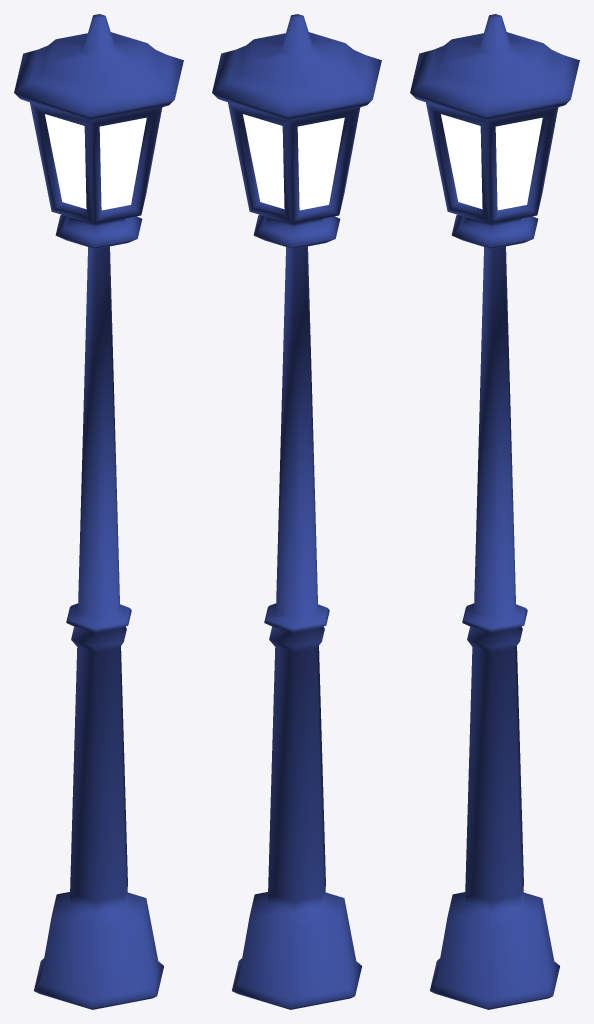
Rendered from lamp.glb.
3 renders of one model, left to right at view 1: azimuth 30°, elevation 25°; view 2: azimuth 150°, elevation 25°; view 3: azimuth 270°, elevation 25°, orthographic.
Parts seen in each view (by area): view 1: Circle.002; view 2: Circle.002; view 3: Circle.002.
Boxes of the visible parts, x1,y1,x2,y2 form: Circle.002: (14, 14, 183, 1009); Circle.002: (212, 14, 381, 1009); Circle.002: (410, 14, 579, 1009).
Bounding box in the file's own units: 1.86 × 10.67 × 1.7.
